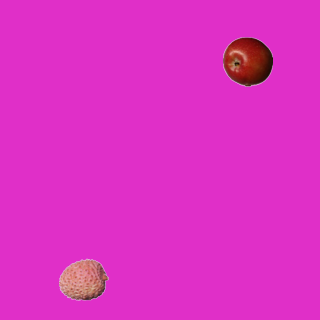Apple Braeburn: (222, 36, 272, 86)
Lychee: (58, 254, 108, 304)
